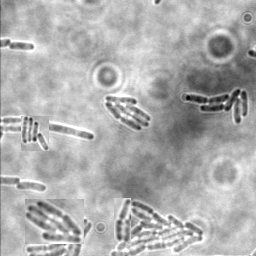Dividing: (1, 123, 95, 142), (114, 198, 131, 242), (8, 41, 35, 52)
Microcolony: (109, 200, 205, 255), (25, 199, 84, 244), (184, 89, 248, 126), (103, 96, 150, 132), (21, 116, 49, 151), (16, 182, 48, 193)
